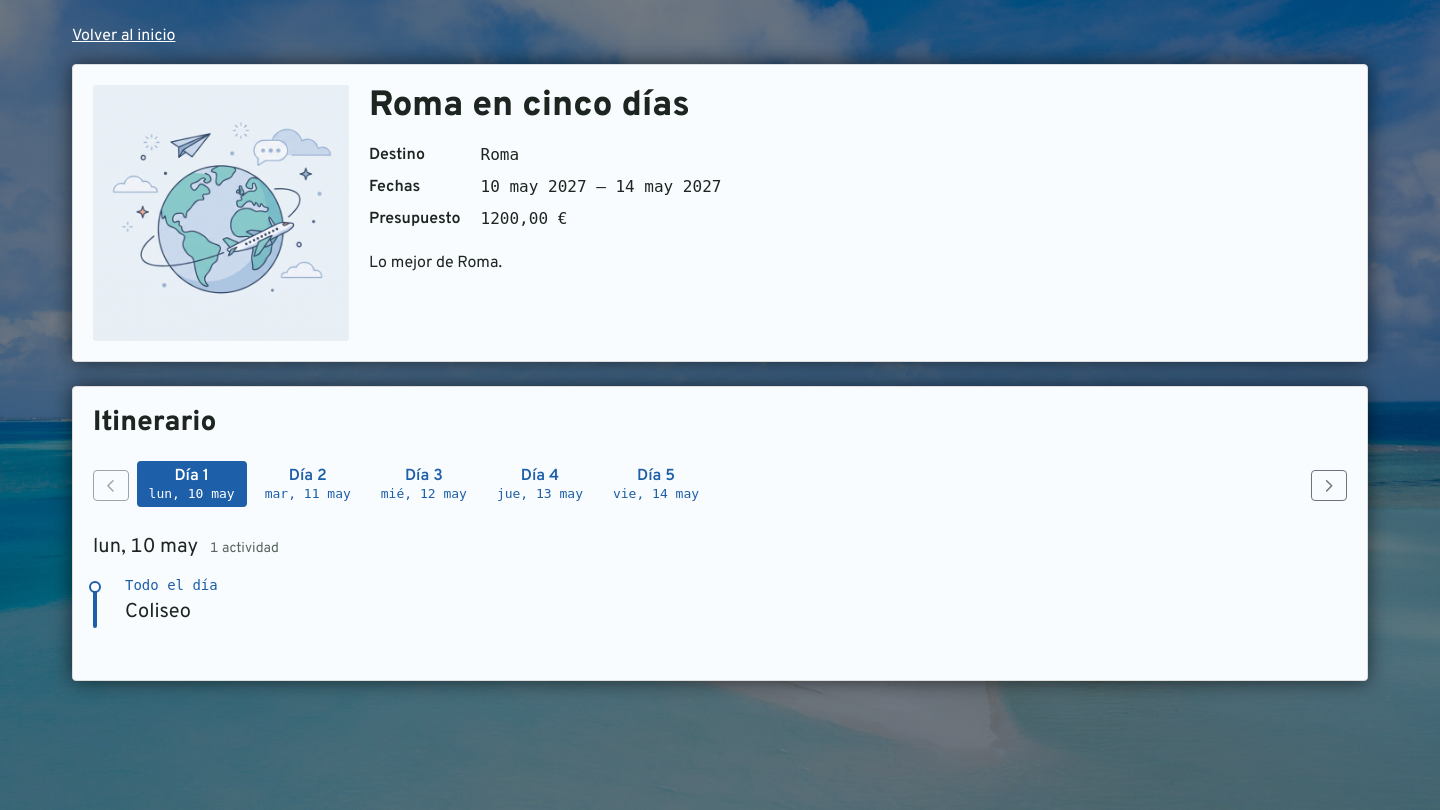
Test: B1 ExampleTripPage › browses the days of the itinerary
This screenshot has width=1440, height=810.
Expected: the heading "Coliseo" is shown, [125,599,191,625]
Click the tab "Día 2 mar, 11 may" at (308, 484), box [253,461,363,507]
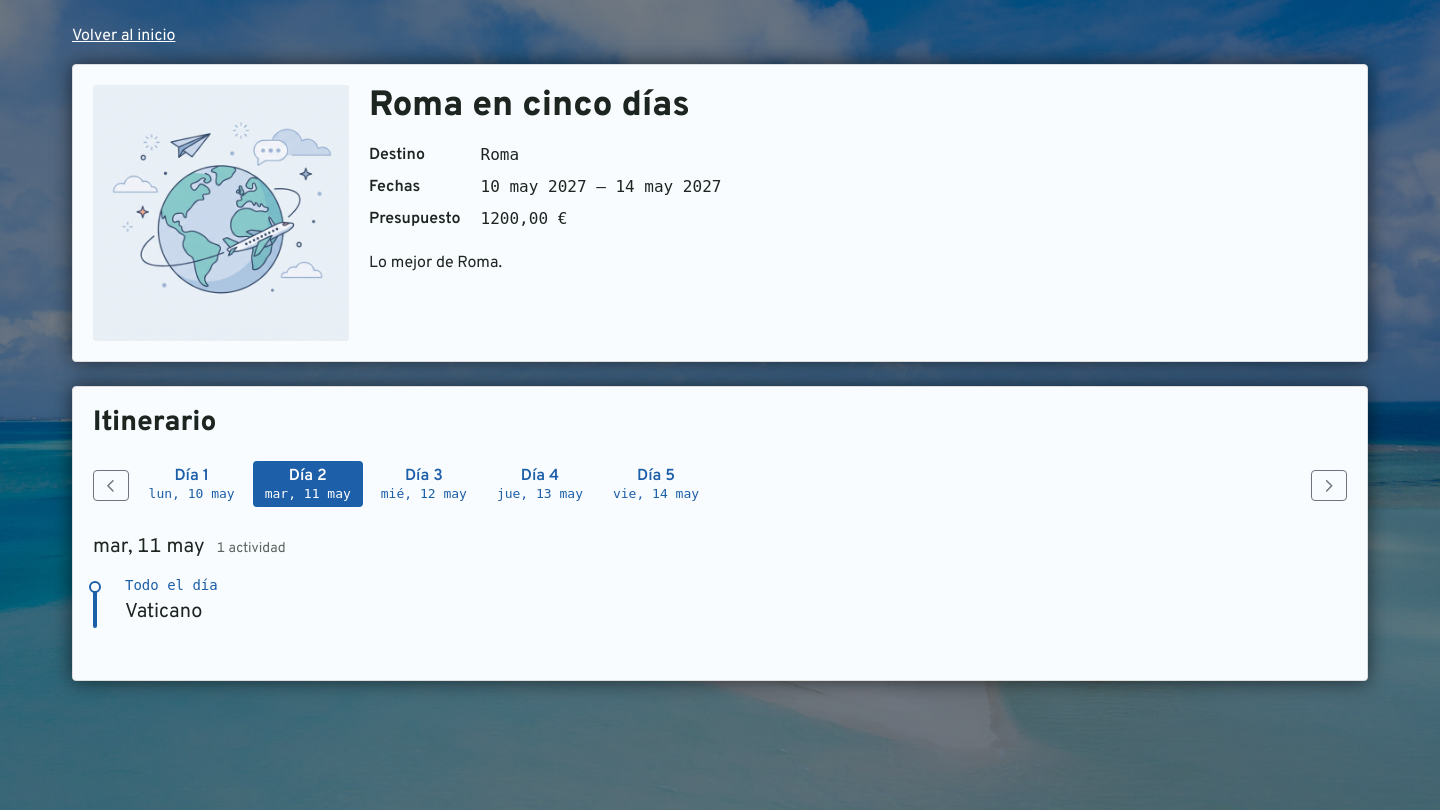
Expected: the heading "Vaticano" is shown, [125,599,202,625]
